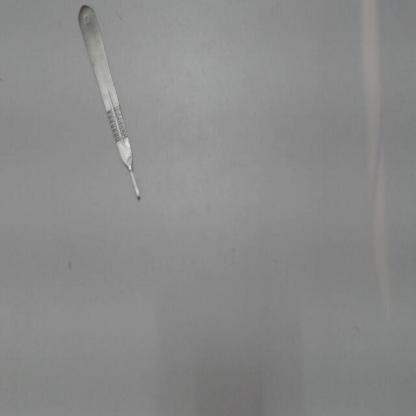No.3 BP Handle: (60, 2, 154, 218)
